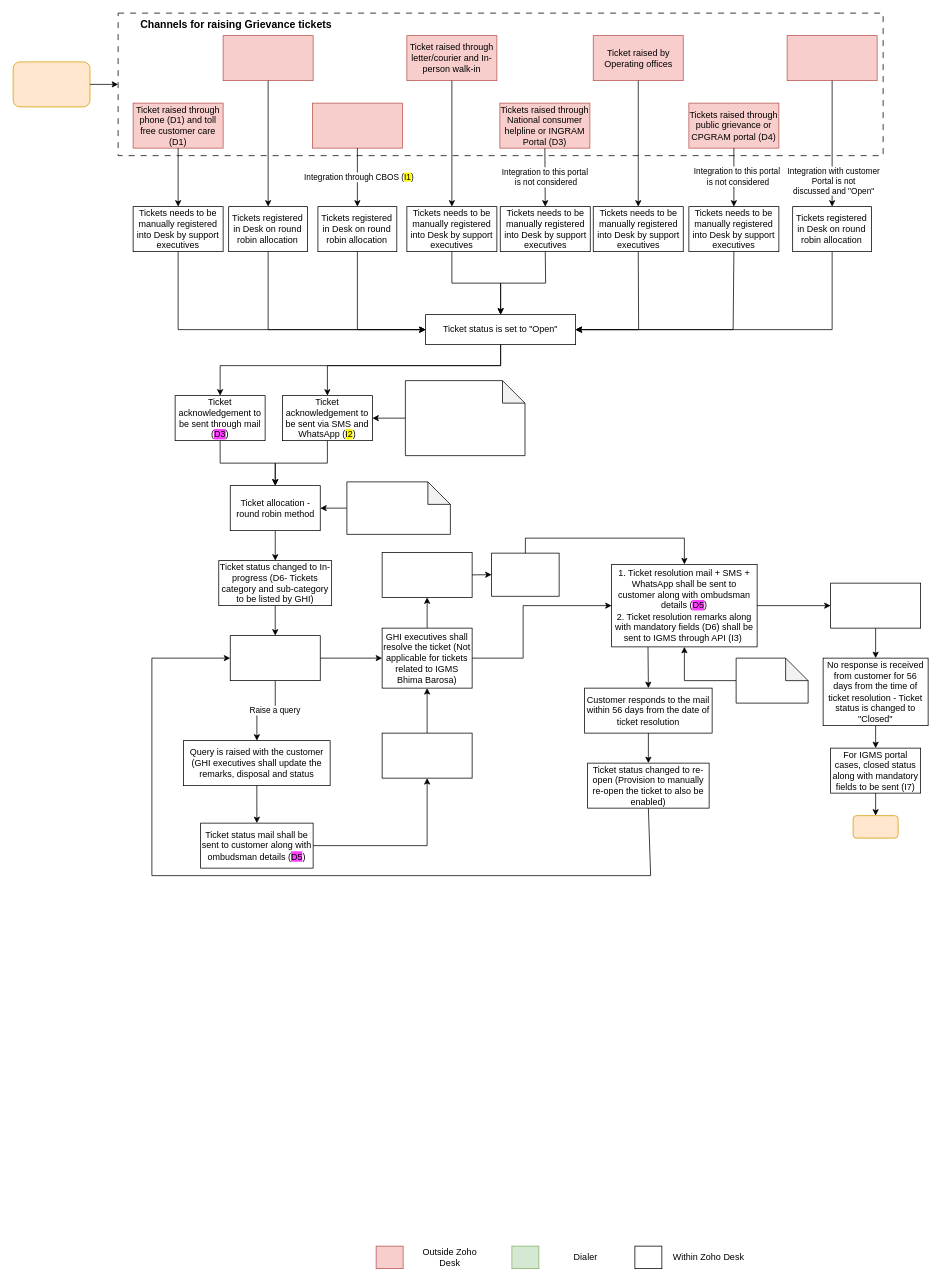
Image size: 941x1282. Some labels were removed from this diagram. The centre of each missing label's shape, as x and y in pixels:
"Customer feedback mail to be sent and response to be captured." belongs at [875,605].
"End" belongs at [875,826].
"Get response from IGMS (I6)" belongs at [525,574].
"Grievance executive shall work on the ticket manually and update the remarks." belongs at [275,658].
"Grievance team user details to be shared ( D4 )" belongs at [398,507].
"Send status to IGMS through API for ticket resolution (I5)" belongs at [426,574].
"SMS & WhatsApp template to be shared along with template ID" belongs at [465,418].
"Start" belongs at [51,84].
"Template shall be shared by GHI (D7) (I4)" belongs at [771,680].
"Ticket raised through company website" belongs at [831,58].
"Ticket status shall be set to resolved after 14 days" belongs at [426,755].
"Tickets raised through Grievance mail ID (D2)" belongs at [267,58].
"Tickets raised through IGMS portal of IRDAI" belongs at [357,125].
